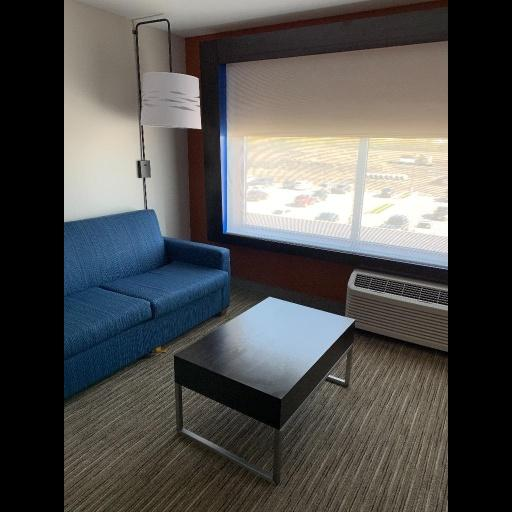lamp: (127, 22, 213, 184)
organized table: (173, 292, 355, 486)
